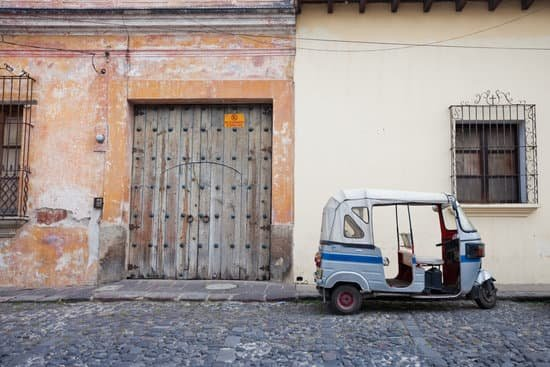threewheel: (314, 188, 497, 315)
